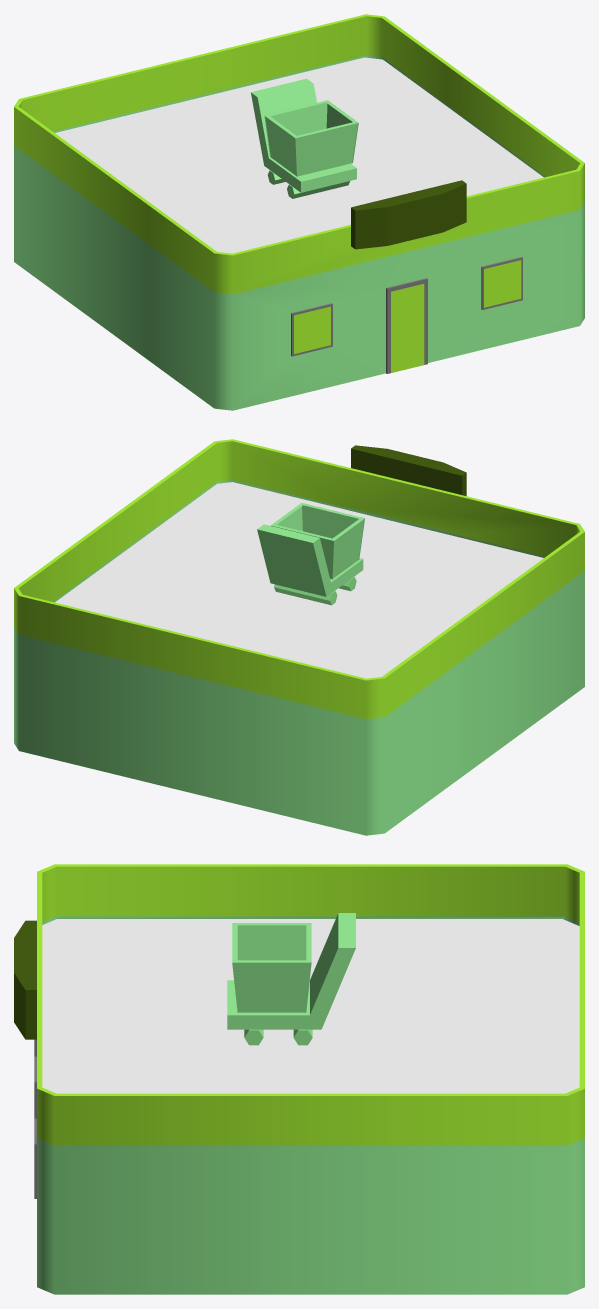
File: Yeşil.fbx
3 views of the same model, one above another, from view 1: azimuth 30°, elevation 25°; view 2: azimuth 150°, elevation 25°; view 3: azimuth 270°, elevation 25° (orthographic). The views are drawn at different scales.
Parts seen in each view (by area): view 1: Group1; view 2: Group1; view 3: Group1.
Boxes of the visible parts, x1,y1,x2,y2 form: Group1: (14, 14, 584, 410); Group1: (14, 439, 584, 835); Group1: (14, 864, 584, 1294).
Bounding box in the file's own units: 1000 × 496 × 1042.
